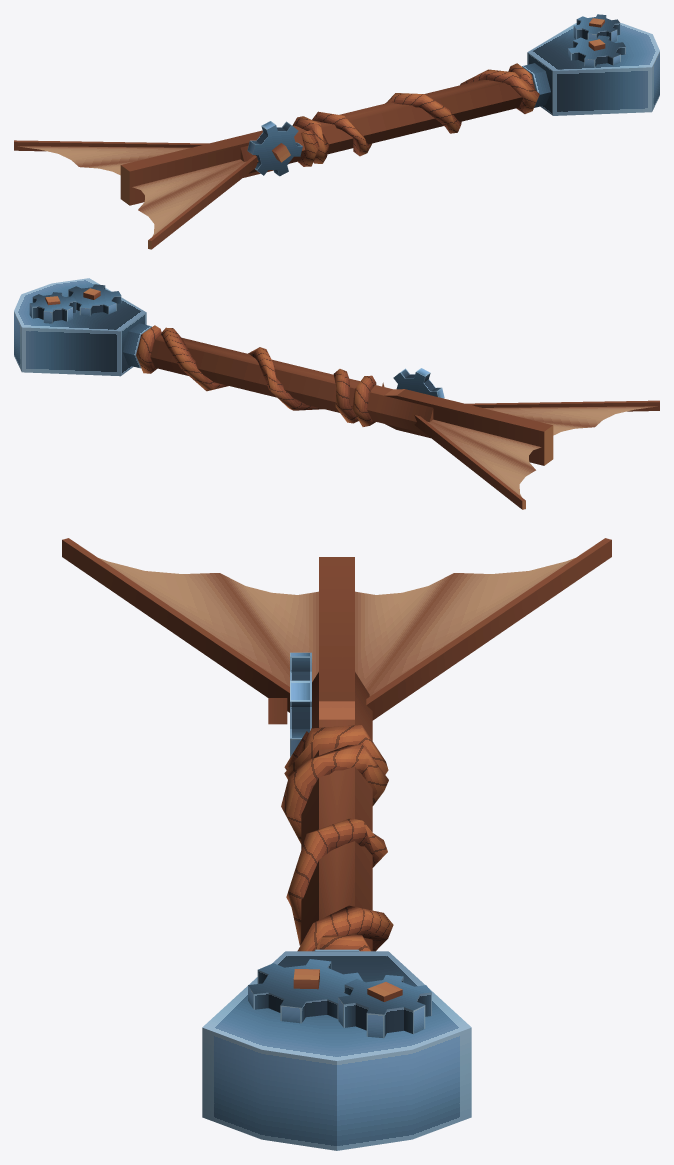
File: VeniceV2_power1_base.glb
The picture shows the model from 3 angles, top to bottom: view 1: azimuth 30°, elevation 25°; view 2: azimuth 150°, elevation 25°; view 3: azimuth 270°, elevation 25°; orthographic projection. The views are drawn at different scales.
Parts seen in each view (by area): view 1: VeniceV2_power1_base; view 2: VeniceV2_power1_base; view 3: VeniceV2_power1_base.
Part boxes in pixels (x1,y1,x2,y2): VeniceV2_power1_base: (14, 14, 659, 249); VeniceV2_power1_base: (14, 278, 659, 509); VeniceV2_power1_base: (62, 538, 611, 1150).
Bounding box in the file's own units: 12.83 × 1.3 × 5.34.
1 material, 1 textured.
